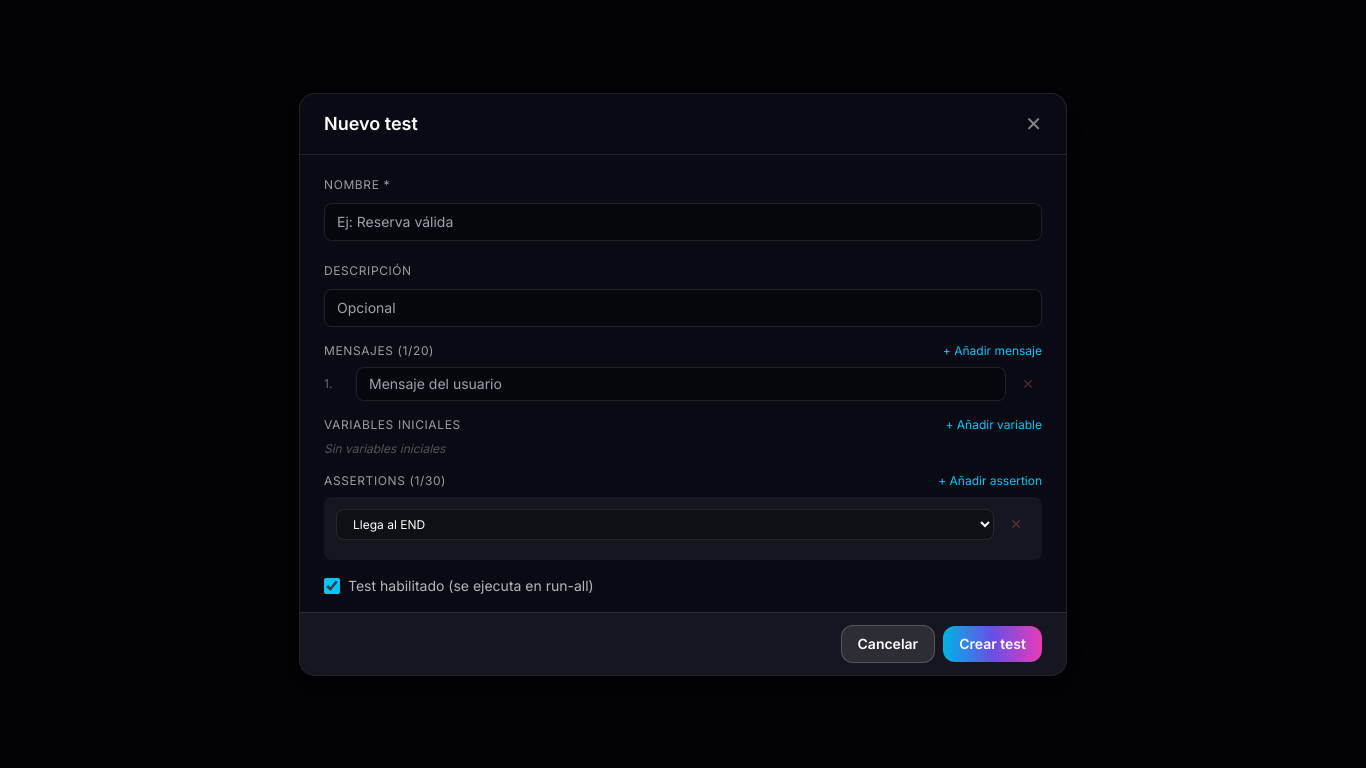
TestEditor › Validación › muestra error si no hay nombre
Note: Rellenar mensaje pero NO nombre
Step 1. Type "Hola" into the field with placeholder "Mensaje del usuario" → (681, 384), box [356,366,1006,400]
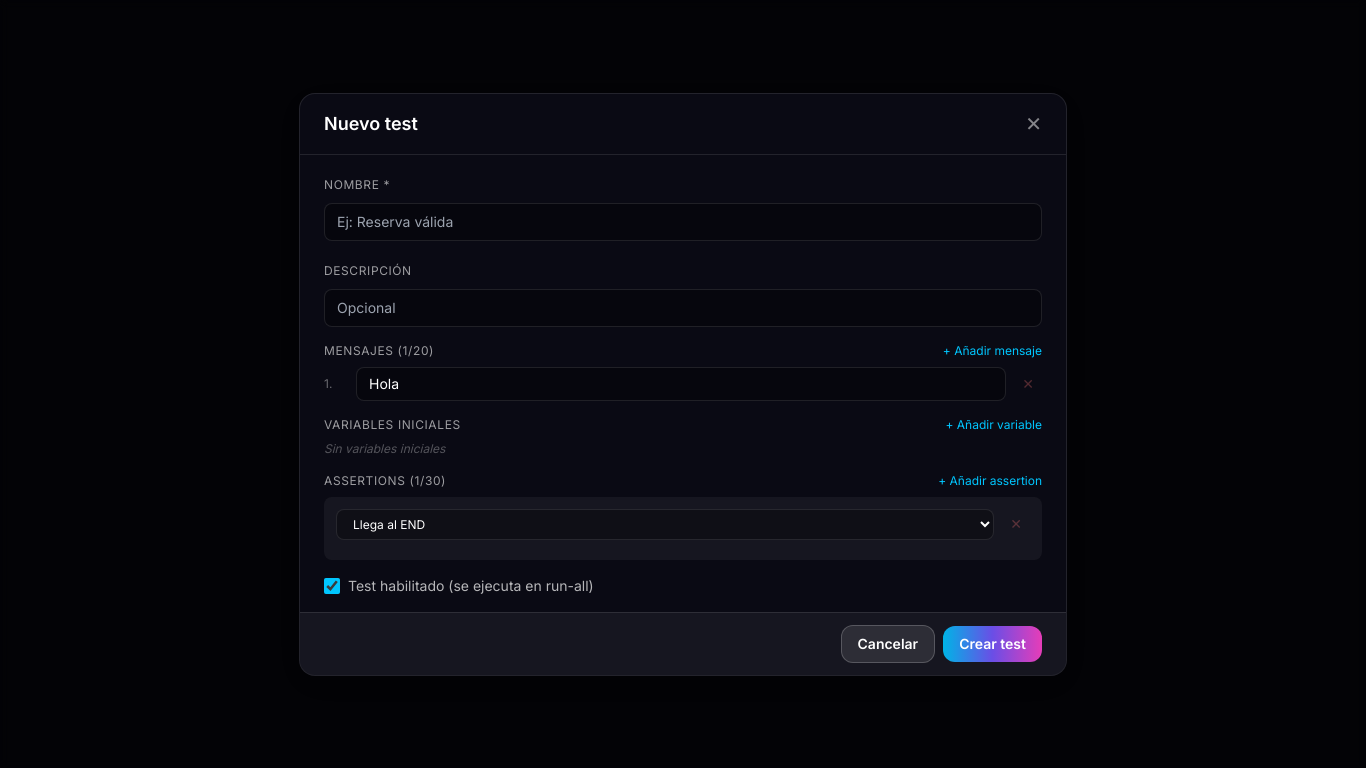
Step 2. Click the button "Crear test" → (993, 644), box [943,626,1042,662]
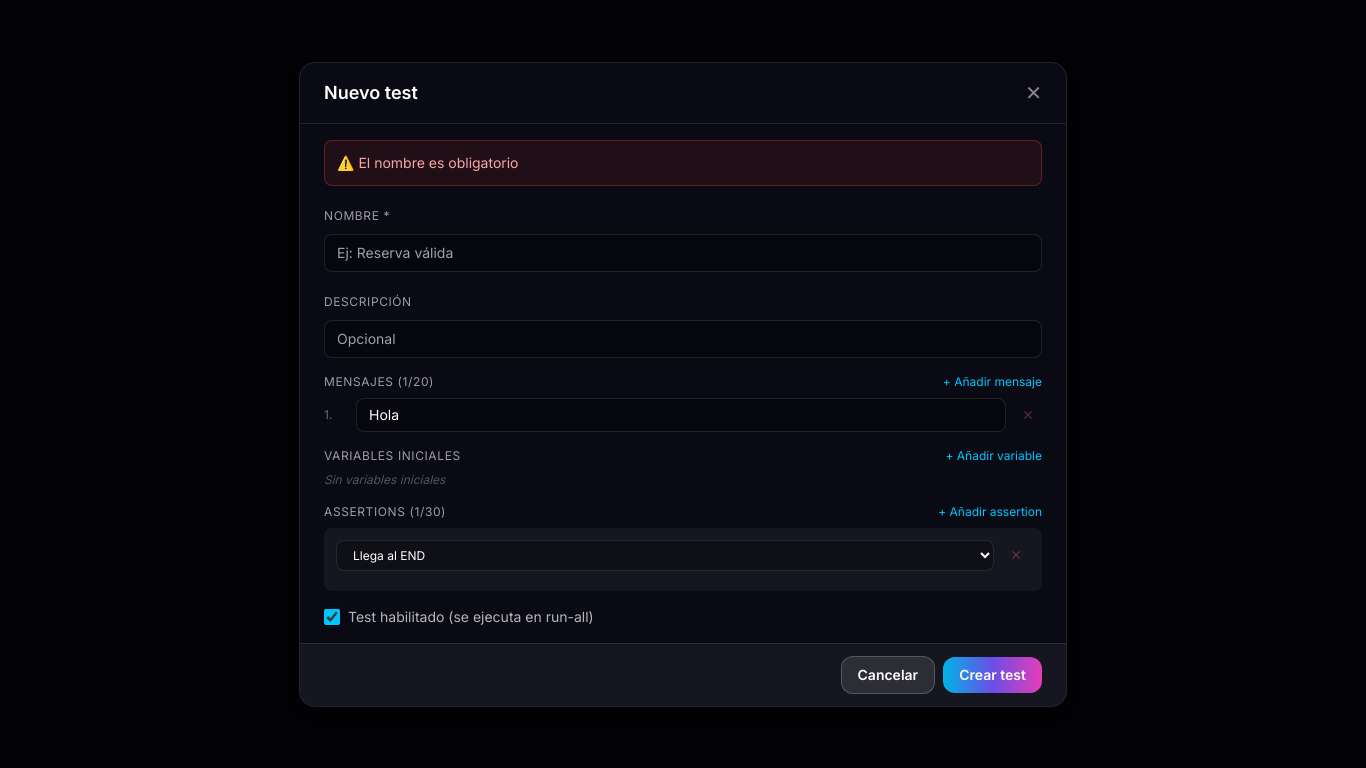
Check: the text "⚠️ El nombre es obligatorio" is shown, box [324,140,1042,186]
